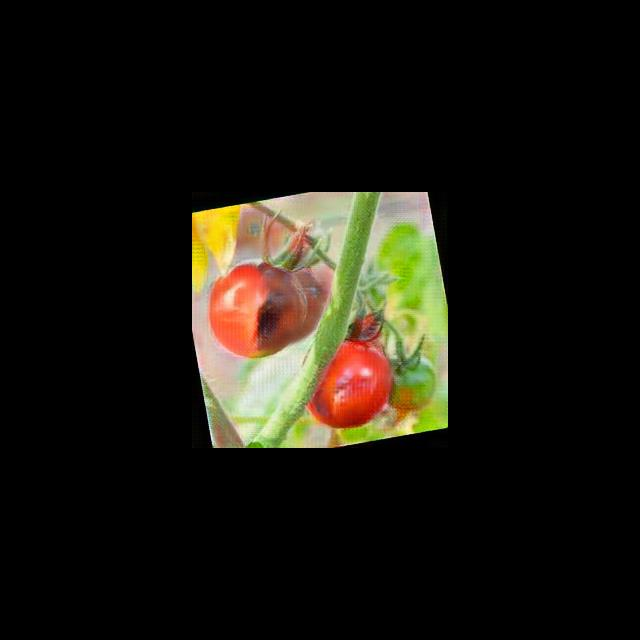tomato: (210, 261, 306, 360), (303, 339, 393, 431)
